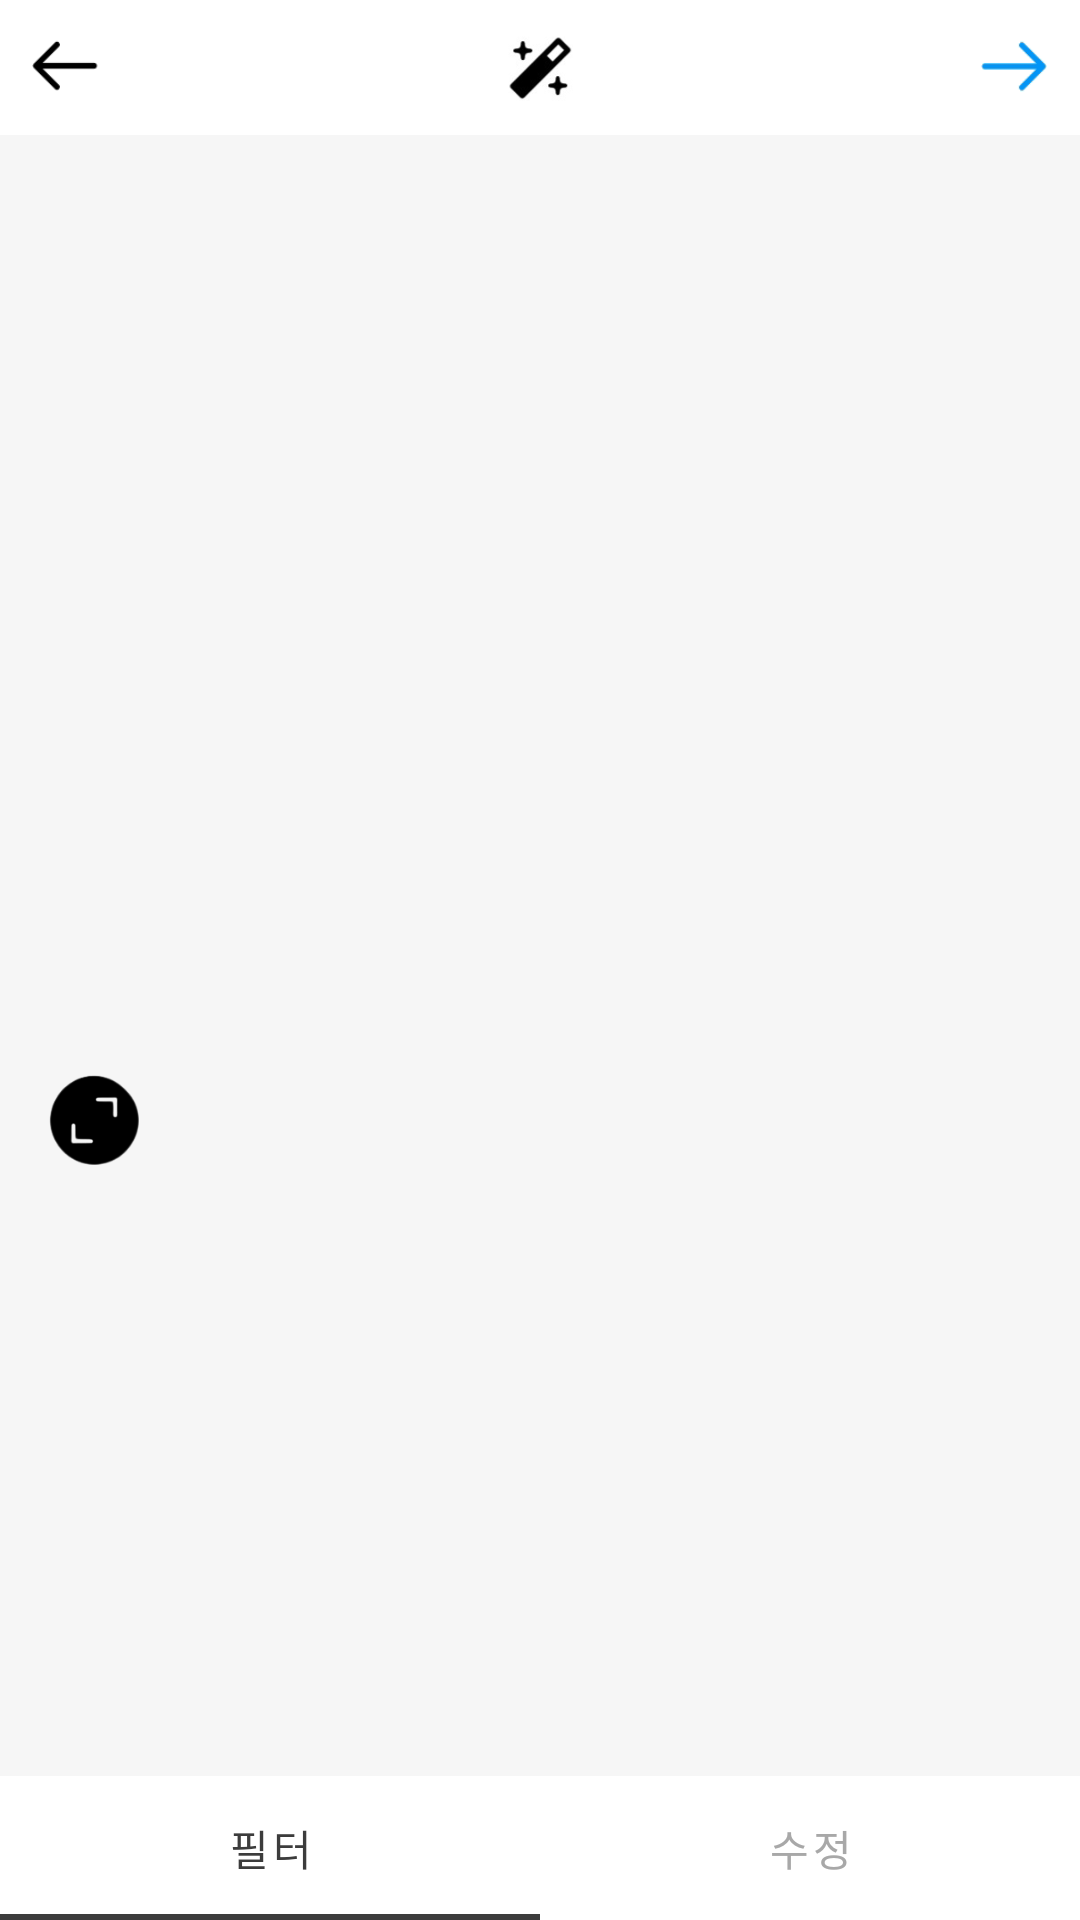

Icon click points for this 1080w x 1920h phone screenshot, format (x=x, y=y):
back: (x=65, y=66)
next: (x=1014, y=66)
post resize: (x=94, y=1120)
post style: (x=540, y=68)
